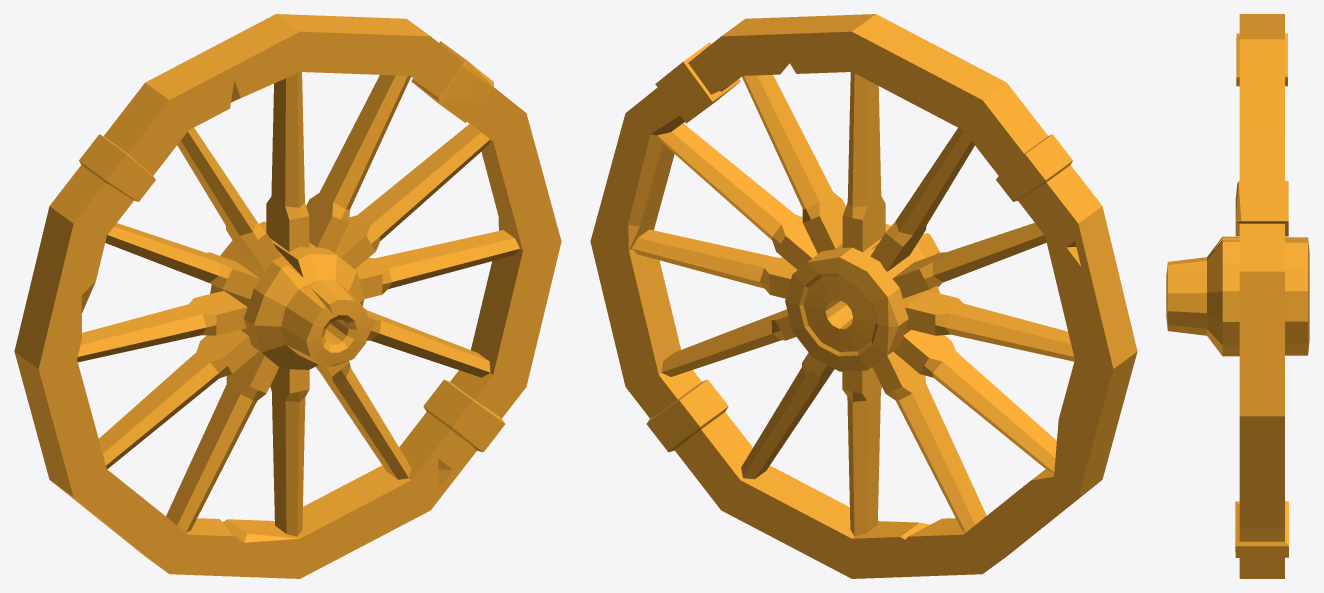
File: SM_Wheel_Wooden_Big.fbx
3 views of the same model, side by side, from view 1: azimuth 30°, elevation 25°; view 2: azimuth 150°, elevation 25°; view 3: azimuth 270°, elevation 25° (orthographic). The views are drawn at different scales.
Visible parts, largest first — view 1: wheel-wooden-big; view 2: wheel-wooden-big; view 3: wheel-wooden-big.
Part boxes in pixels (bbox=[...]): wheel-wooden-big: bbox=[14, 14, 561, 578]; wheel-wooden-big: bbox=[590, 14, 1137, 578]; wheel-wooden-big: bbox=[1166, 14, 1309, 578].
Bounding box in the file's own units: 1.51 × 1.51 × 0.3822.
